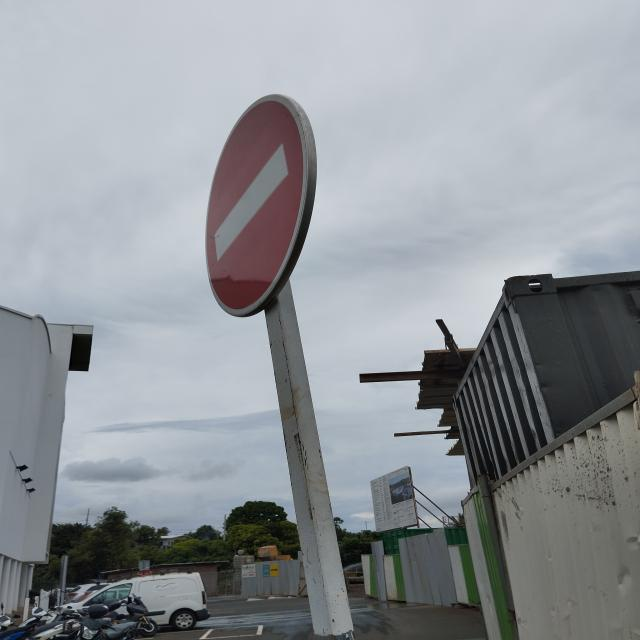Sens-Interdit: (204, 90, 316, 316)
